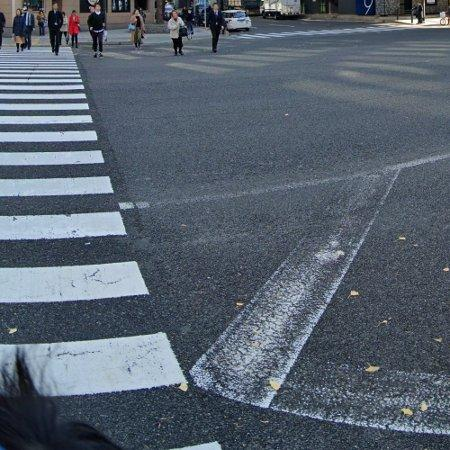crosswalks: (0, 42, 227, 450)
